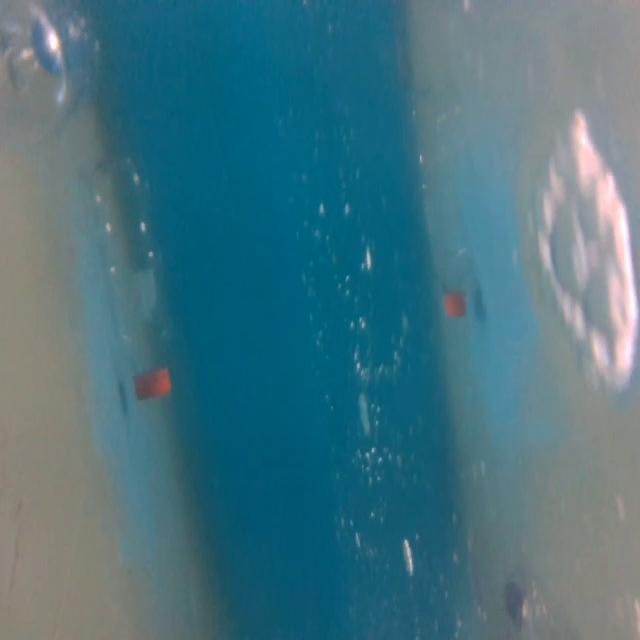plastic bottle: (85, 150, 188, 414)
